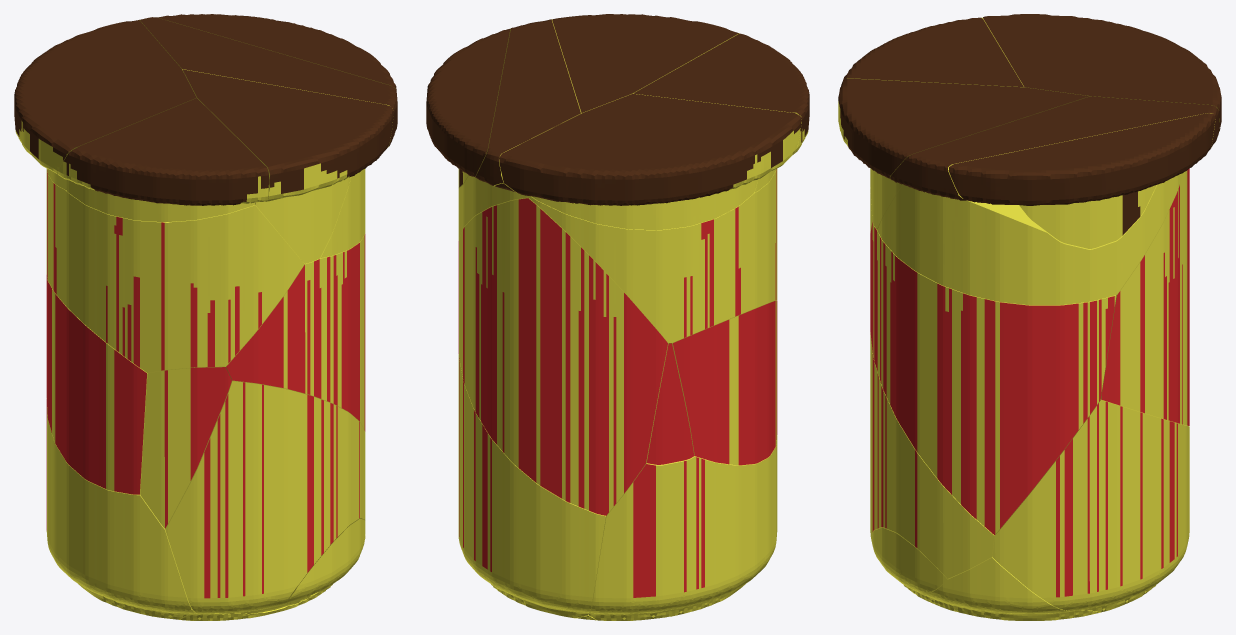
Rendered from broken_tub.fbx.
3 views of the same model, side by side, from view 1: azimuth 30°, elevation 25°; view 2: azimuth 150°, elevation 25°; view 3: azimuth 270°, elevation 25° (orthographic).
Parts seen in each view (by area): view 1: Tub_cell.001, Tub_cell.008, Tub_cell.012, Tub_cell.013, Tub_cell, Tub_cell.014, Tub_cell.005, Tub_cell.010, Tub_cell.016, Tub_cell.015, Tub_cell.003, Tub_cell.009 (+1 smaller); view 2: Tub_cell.006, Tub_cell, Tub_cell.014, Tub_cell.008, Tub_cell.007, Tub_cell.010, Tub_cell.012, Tub_cell.016, Tub_cell.013, Tub_cell.003, Tub_cell.002; view 3: Tub_cell.005, Tub_cell.016, Tub_cell.007, Tub_cell.003, Tub_cell, Tub_cell.006, Tub_cell.012, Tub_cell.001, Tub_cell.013, Tub_cell.004, Tub_cell.009.
Boxes of the visible parts, left/top/right/bottom form: Tub_cell.001: left=165, top=381, right=365, bottom=614; Tub_cell.008: left=46, top=168, right=304, bottom=373; Tub_cell.012: left=182, top=69, right=393, bottom=263; Tub_cell.013: left=57, top=98, right=268, bottom=221; Tub_cell: left=14, top=20, right=196, bottom=189; Tub_cell.014: left=46, top=398, right=197, bottom=619; Tub_cell.005: left=225, top=233, right=365, bottom=431; Tub_cell.010: left=46, top=274, right=147, bottom=494; Tub_cell.016: left=139, top=17, right=397, bottom=257; Tub_cell.015: left=140, top=367, right=231, bottom=528; Tub_cell.003: left=154, top=14, right=396, bottom=89; Tub_cell.009: left=287, top=518, right=365, bottom=604; Tub_cell.006: left=458, top=198, right=668, bottom=515; Tub_cell: left=499, top=94, right=801, bottom=230; Tub_cell.014: left=588, top=435, right=777, bottom=620; Tub_cell.008: left=528, top=168, right=777, bottom=343; Tub_cell.007: left=458, top=354, right=605, bottom=617; Tub_cell.010: left=672, top=300, right=777, bottom=465; Tub_cell.012: left=552, top=14, right=739, bottom=112; Tub_cell.016: left=458, top=19, right=581, bottom=240; Tub_cell.013: left=633, top=33, right=809, bottom=192; Tub_cell.003: left=426, top=29, right=510, bottom=186; Tub_cell.002: left=646, top=343, right=694, bottom=464; Tub_cell.005: left=870, top=222, right=1116, bottom=534; Tub_cell.016: left=877, top=96, right=1219, bottom=305; Tub_cell.007: left=992, top=399, right=1189, bottom=612; Tub_cell.003: left=948, top=113, right=1215, bottom=248; Tub_cell: left=983, top=14, right=1221, bottom=127; Tub_cell.006: left=1100, top=168, right=1189, bottom=425; Tub_cell.012: left=838, top=78, right=1089, bottom=229; Tub_cell.001: left=870, top=333, right=994, bottom=578; Tub_cell.013: left=843, top=17, right=1024, bottom=87; Tub_cell.004: left=904, top=556, right=1100, bottom=620; Tub_cell.009: left=871, top=527, right=947, bottom=593.
Bounding box in the file's own units: 174 × 236 × 174.
